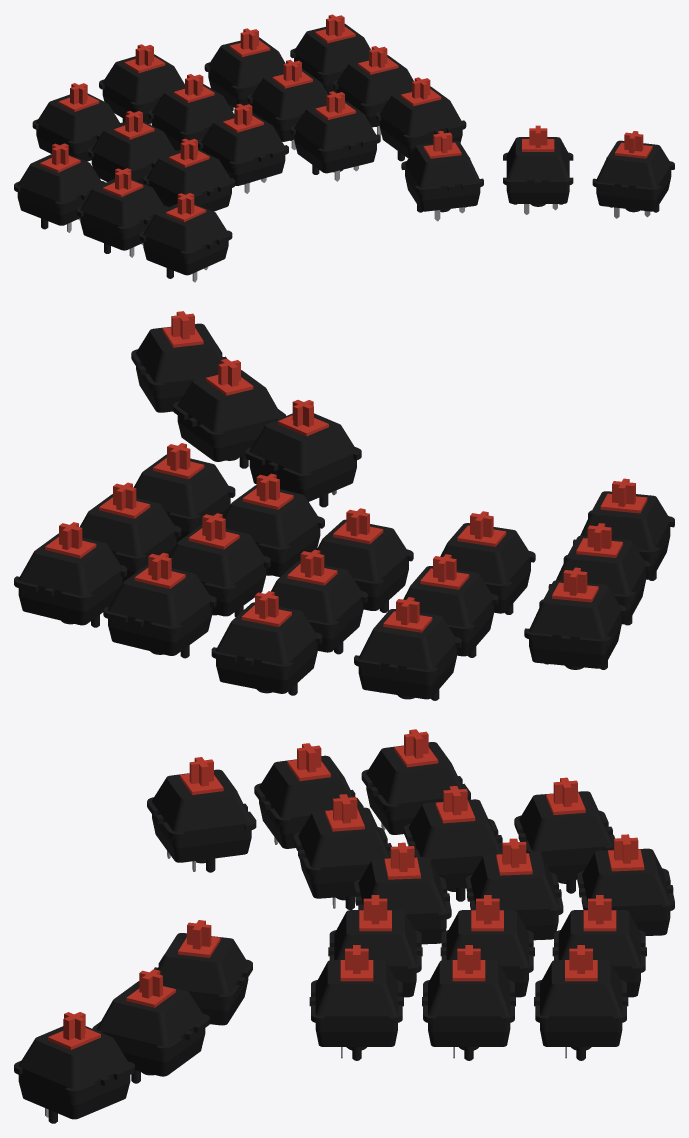
Rendered from switches.glb.
3 views of the same model, one above another, from view 1: azimuth 30°, elevation 25°; view 2: azimuth 150°, elevation 25°; view 3: azimuth 270°, elevation 25° (orthographic). The views are drawn at different scales.
Visible parts, largest first — view 1: =>[0:1:1:3] (×18); view 2: =>[0:1:1:3] (×18); view 3: =>[0:1:1:3] (×18).
Part boxes in pixels (x1,y1,x2,y2): =>[0:1:1:3] (×18): [14, 14, 674, 282]; =>[0:1:1:3] (×18): [14, 311, 674, 700]; =>[0:1:1:3] (×18): [14, 729, 674, 1123].
Size of the model in its own units: 0.1329 by 0.0185 by 0.1123.
